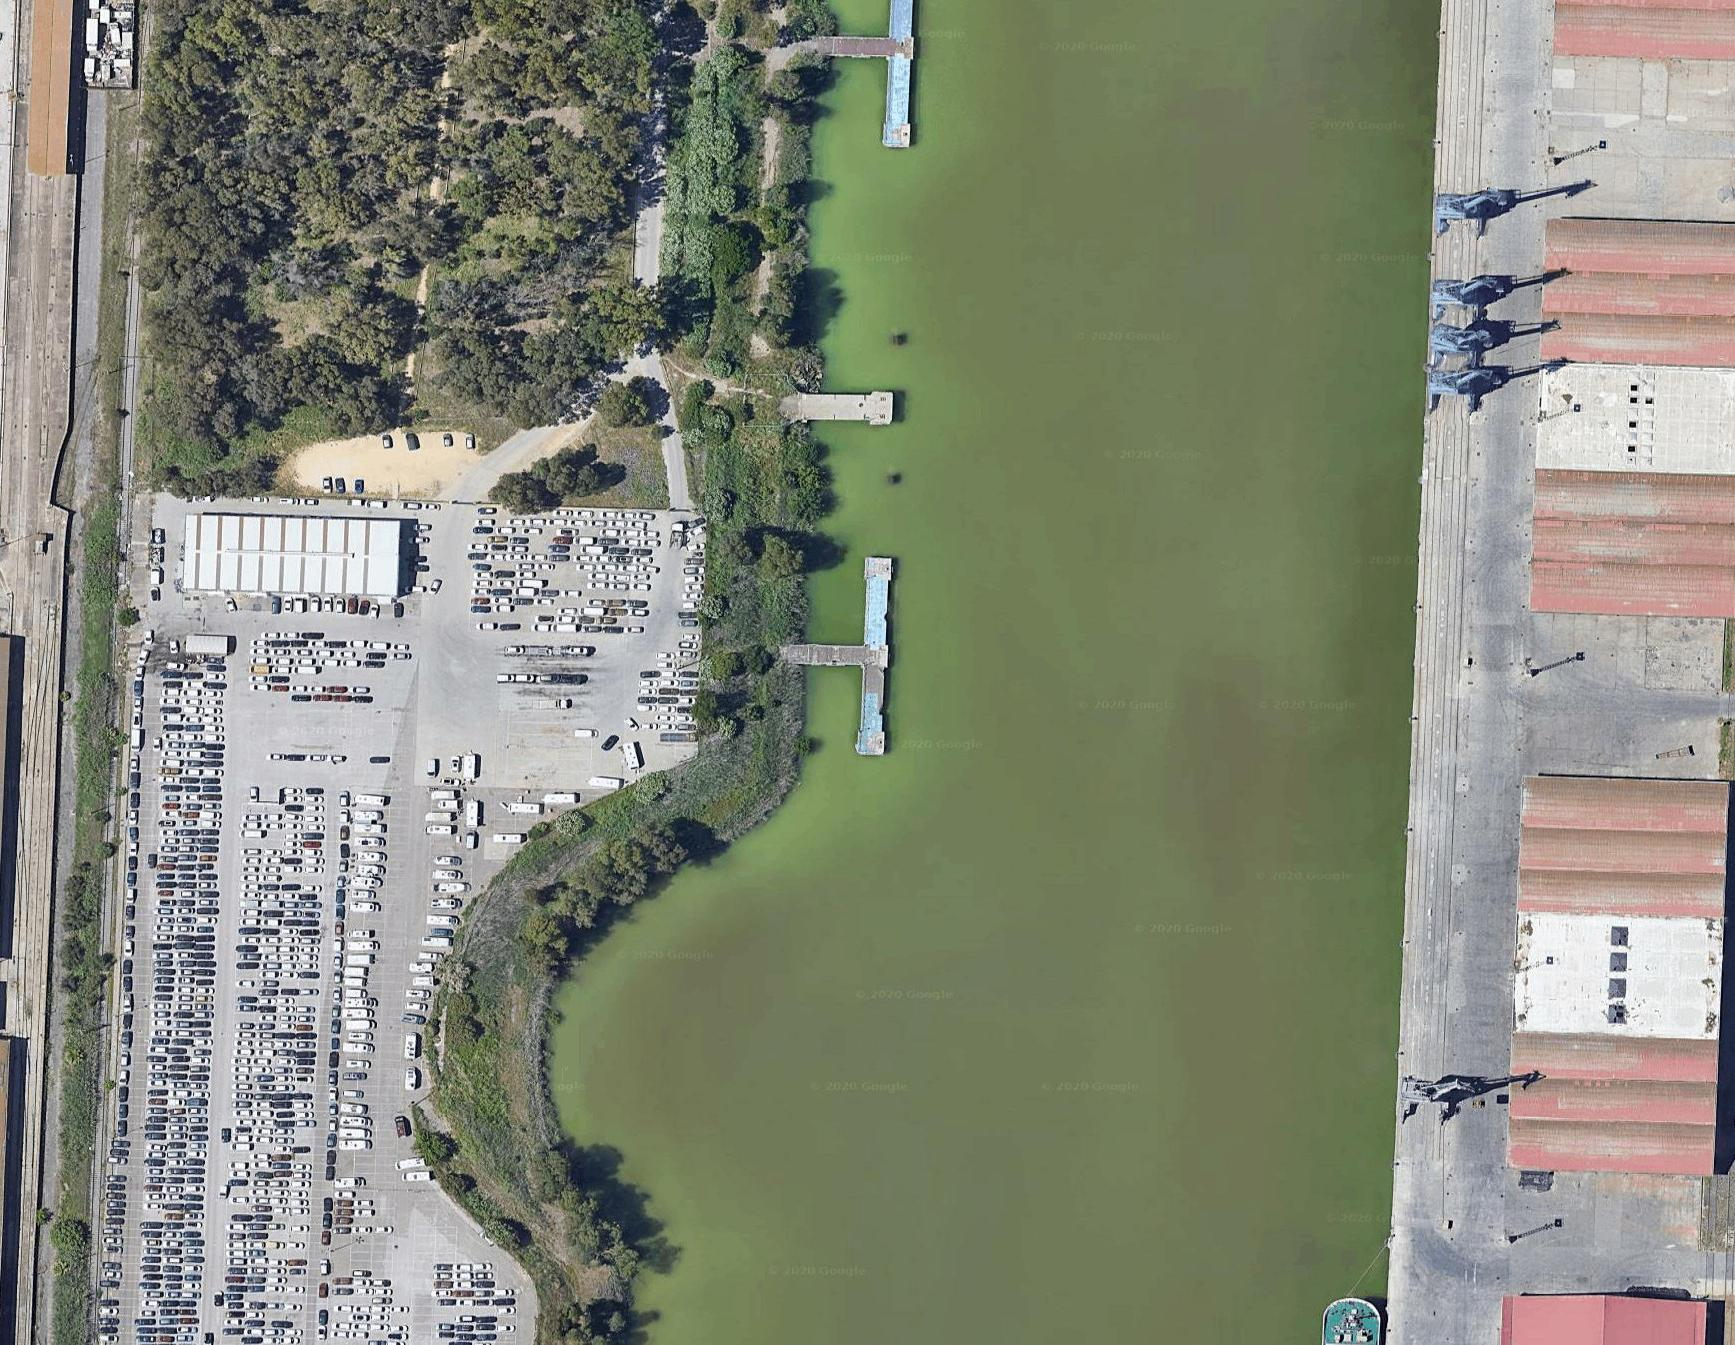harbor: (780, 553, 894, 751), (820, 4, 915, 146), (808, 368, 906, 446)
